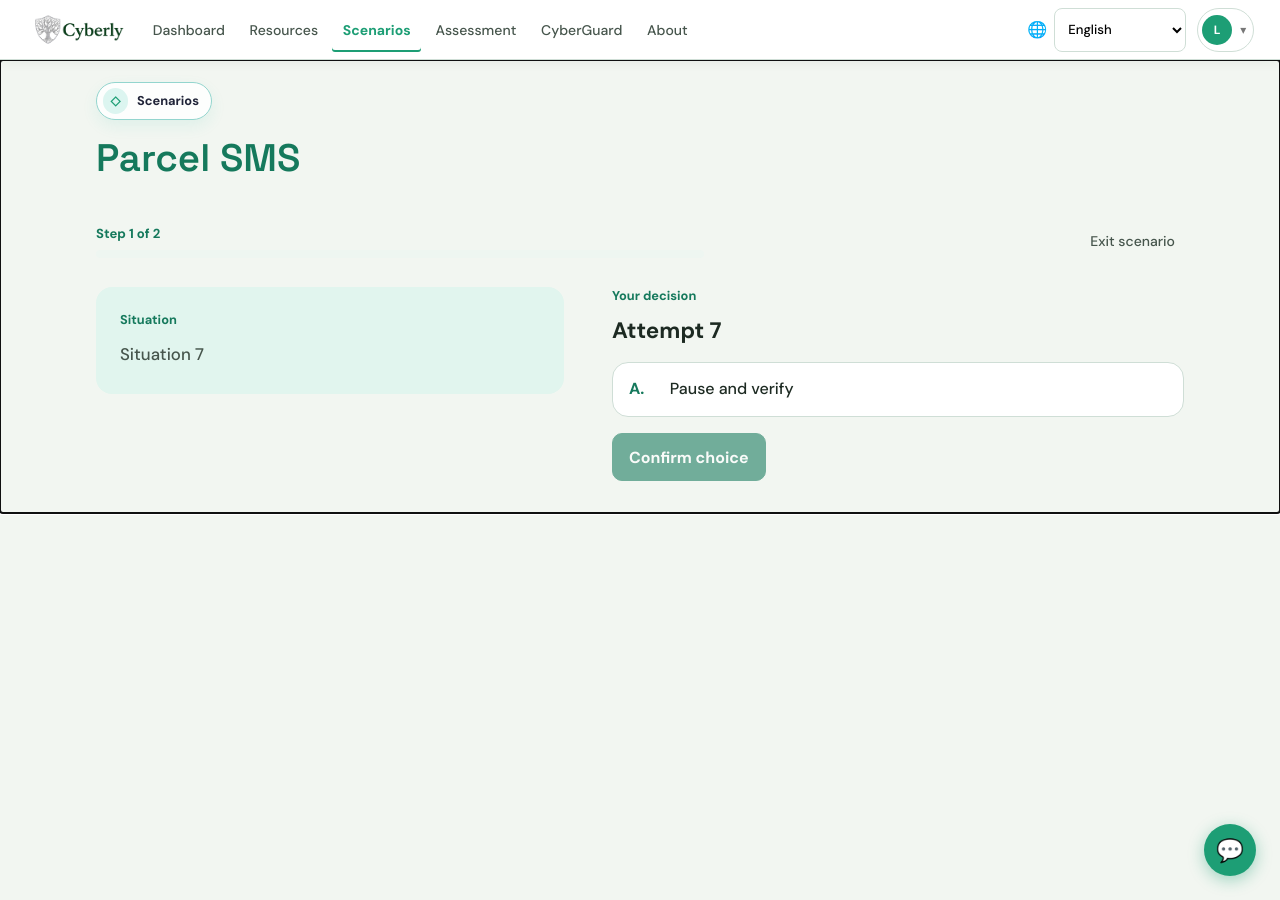
Test: NIGHT-RUN Navbar abandons exact active safely without replaying its target
Expected: the text "Situation 7" is shown, [120,343,204,365]
Click the button "A. Pause and verify": (732, 388) [612,362,1184,417]
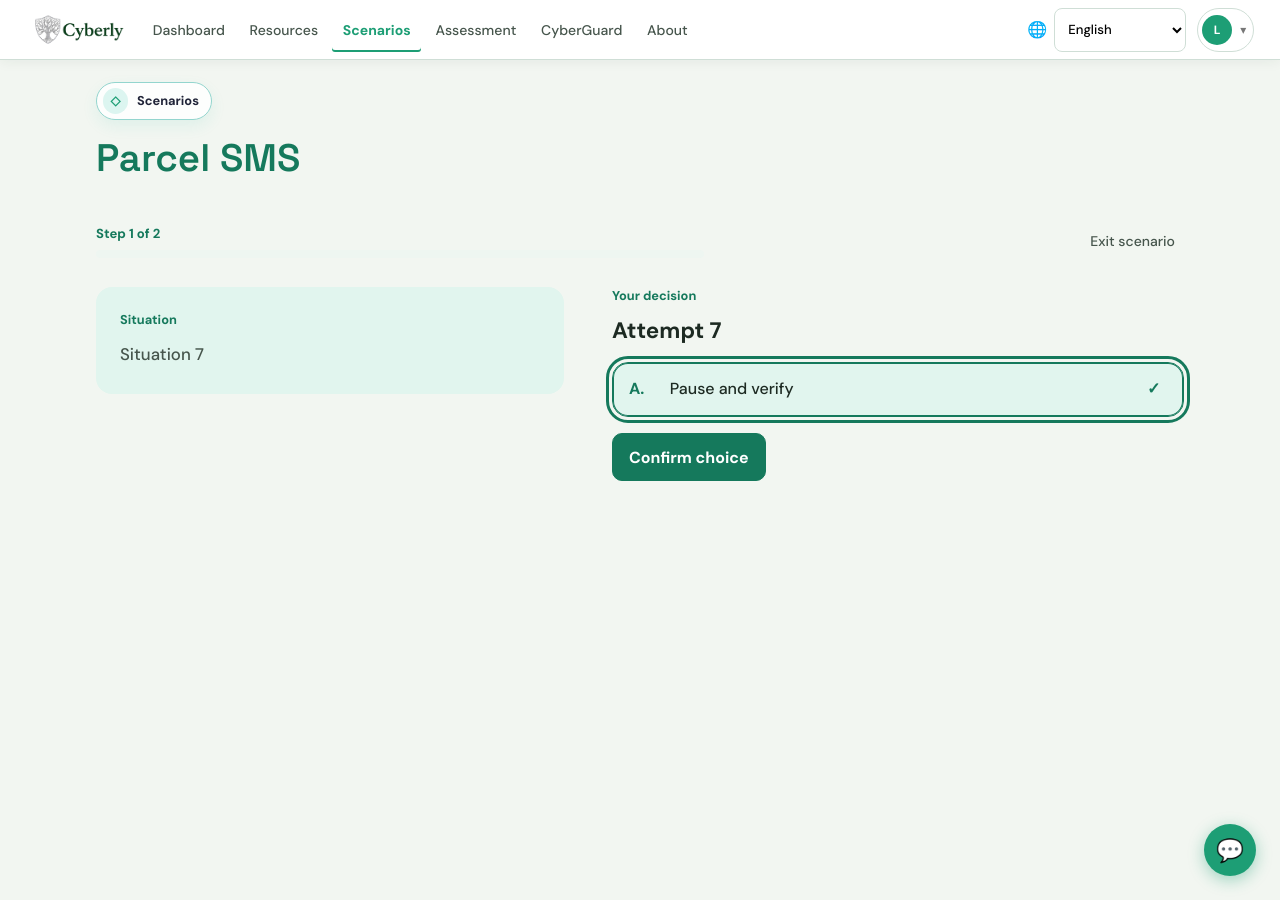
Click the button "Scenarios": (377, 30) [332,8,421,52]
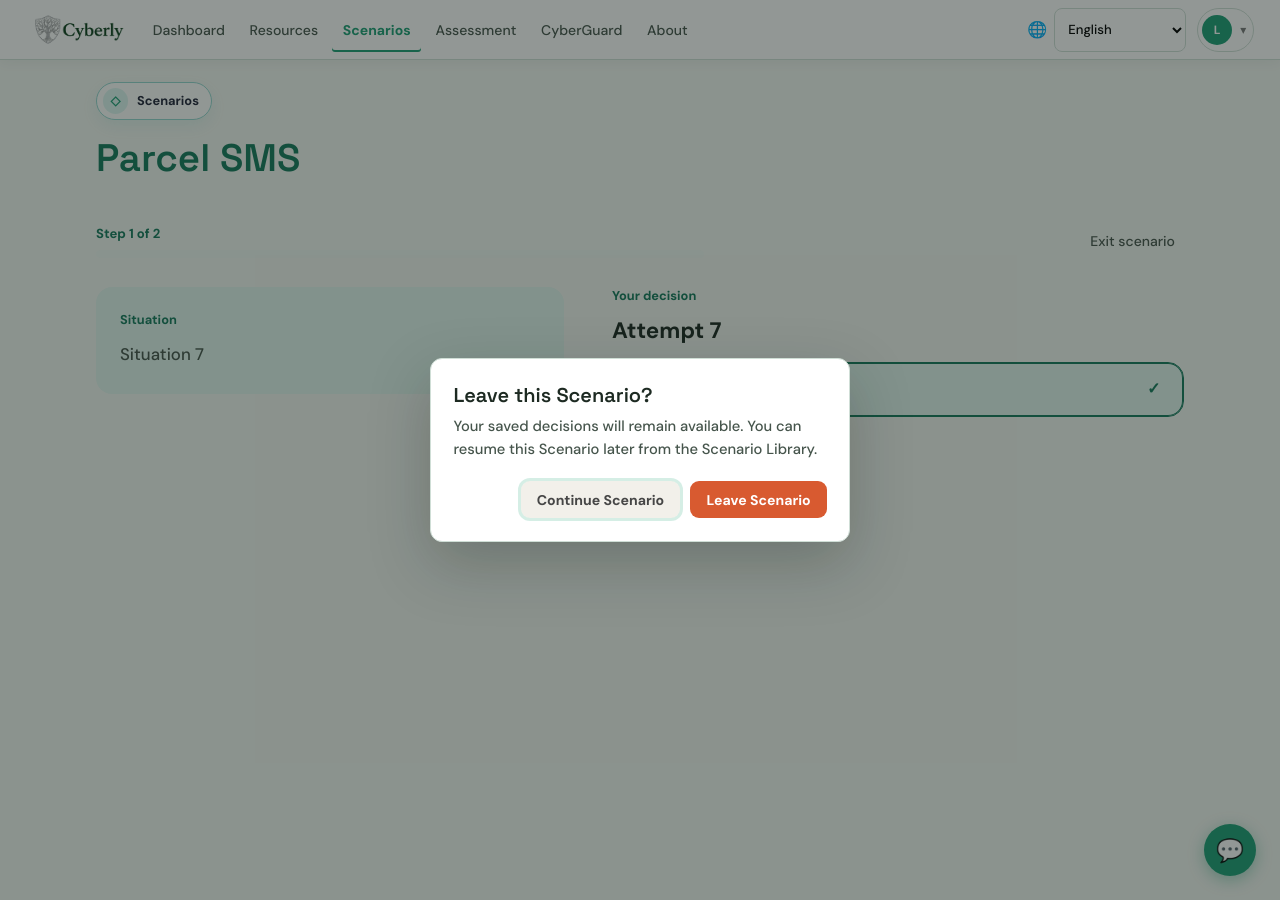
Click the button "Continue Scenario": (600, 500) [521,481,680,518]
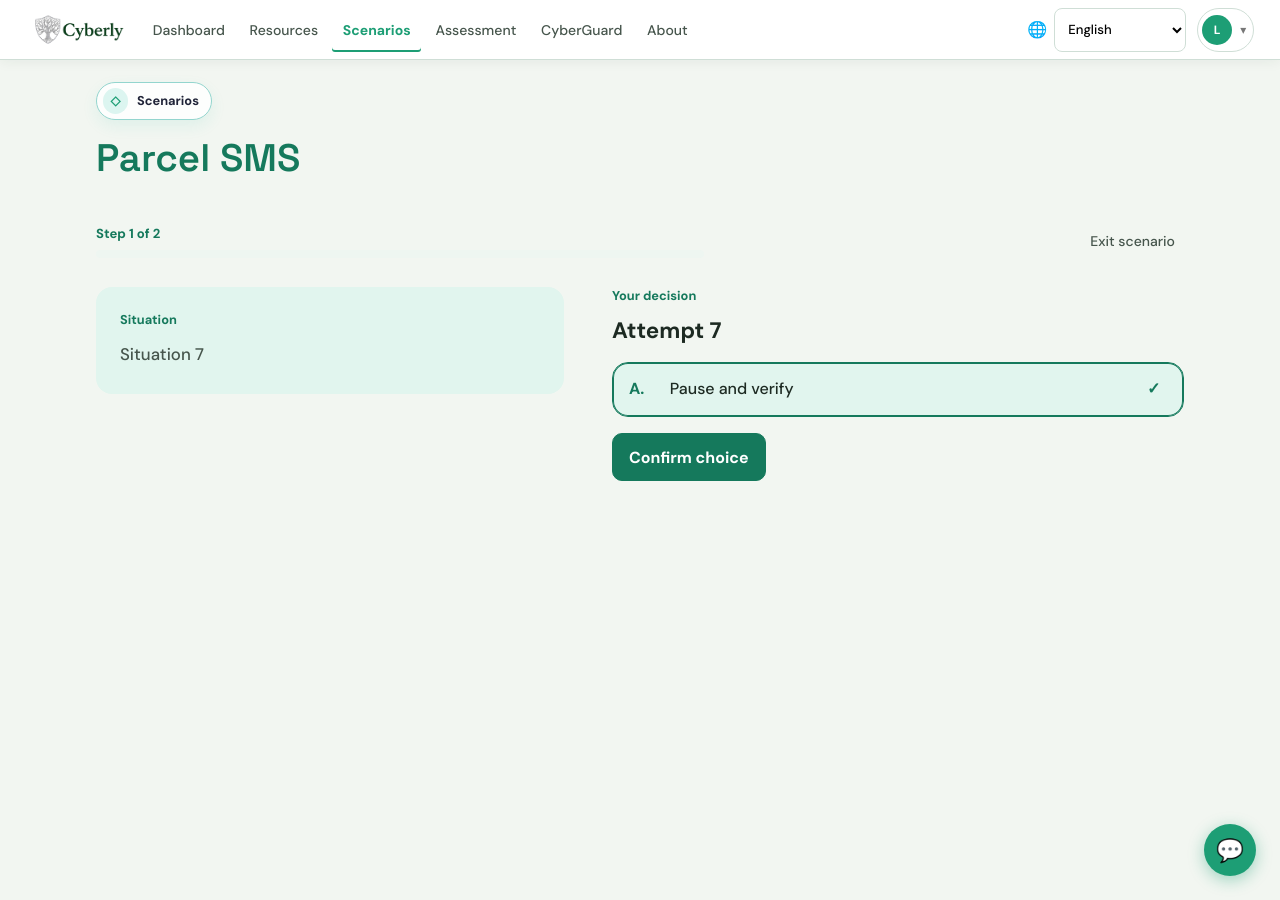
Expected: the text "Situation 7" is shown, [120,343,204,365]
Now the button "A. Pause and verify ✓" is pressed, box [612,362,1184,417]
Click the button "Scenarios": (377, 30) [332,8,421,52]
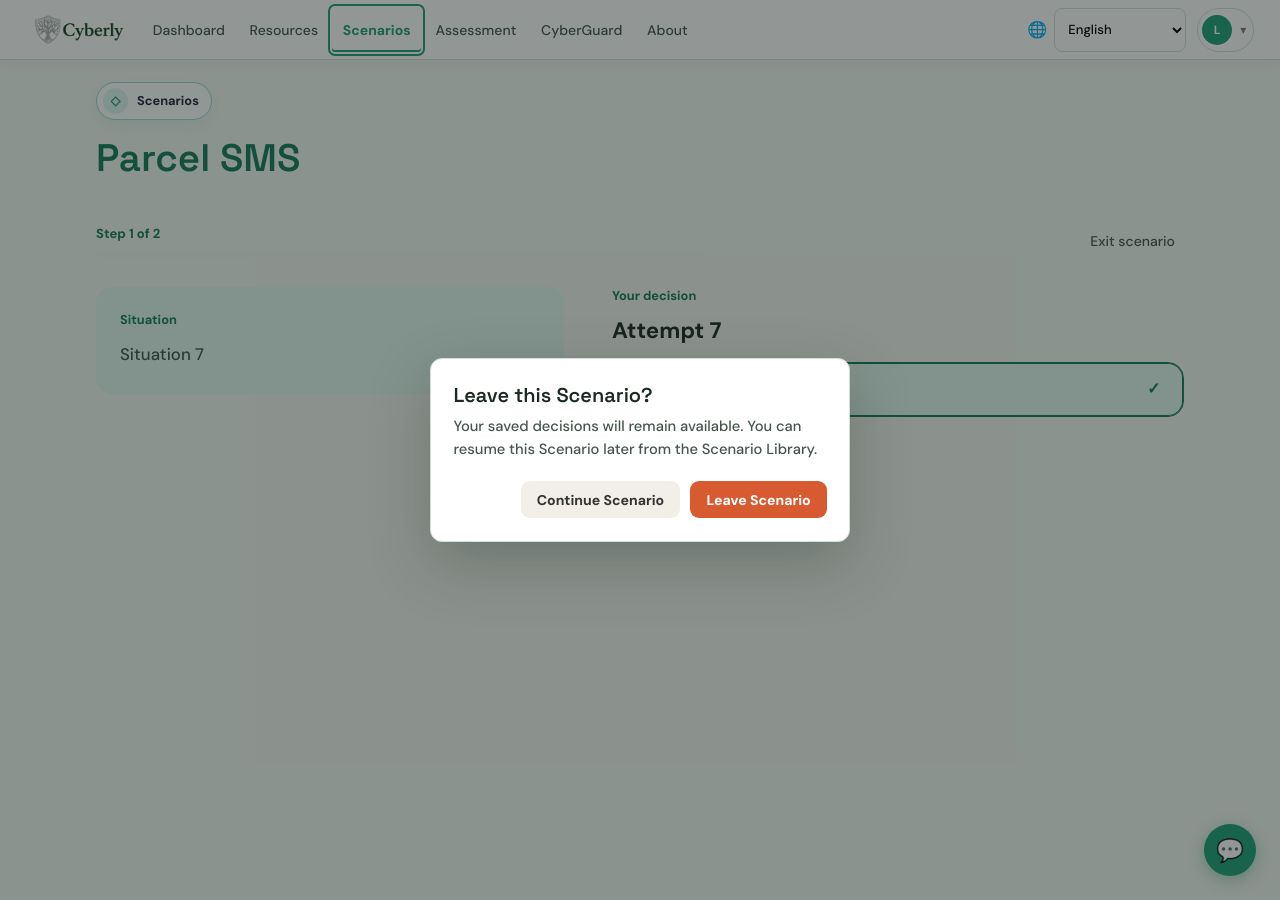
Click the button "Leave Scenario": (759, 500) [690,481,827,518]
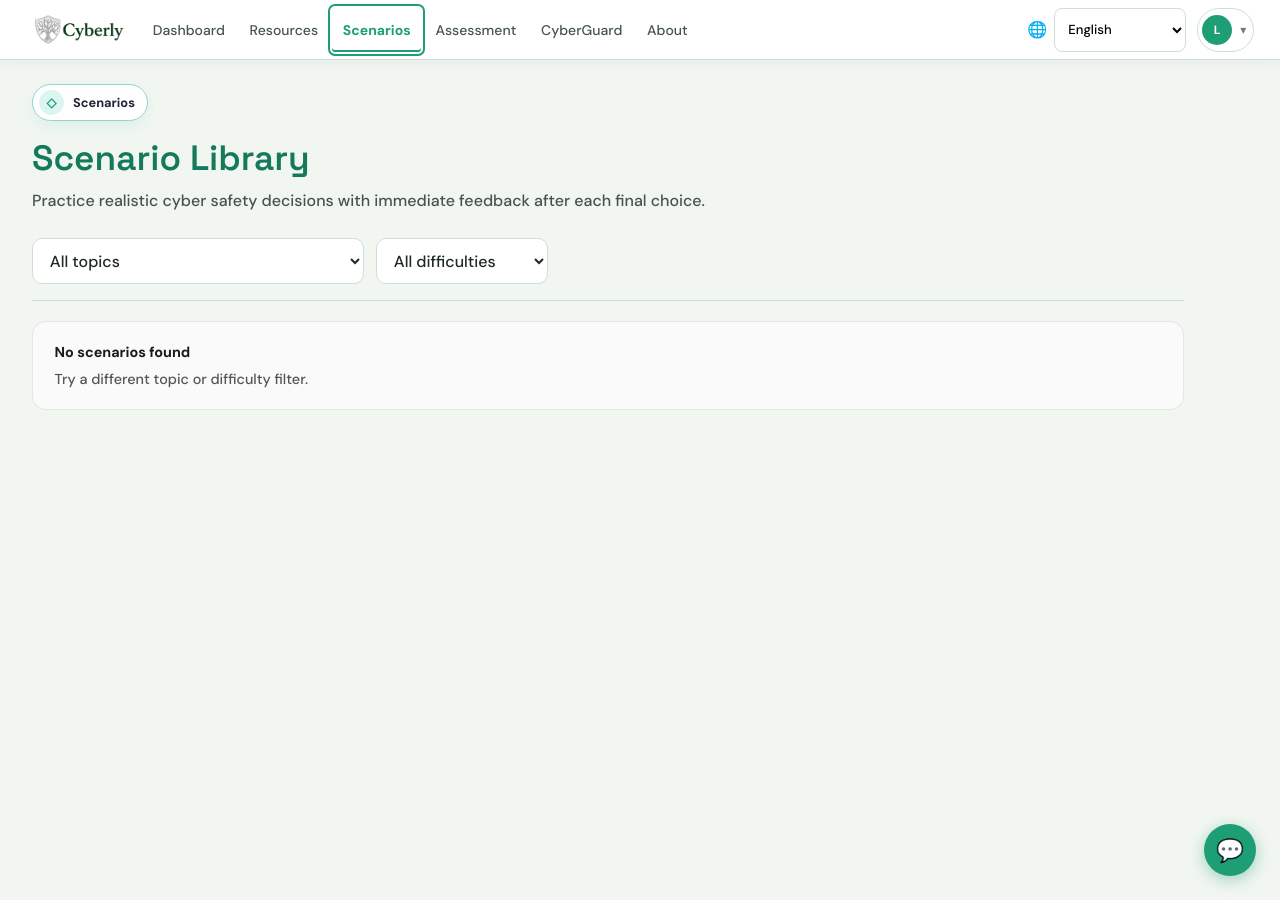
Now the heading "Scenario Library" is shown, box [32,135,310,180]
Now the text "Situation 7" is gone
